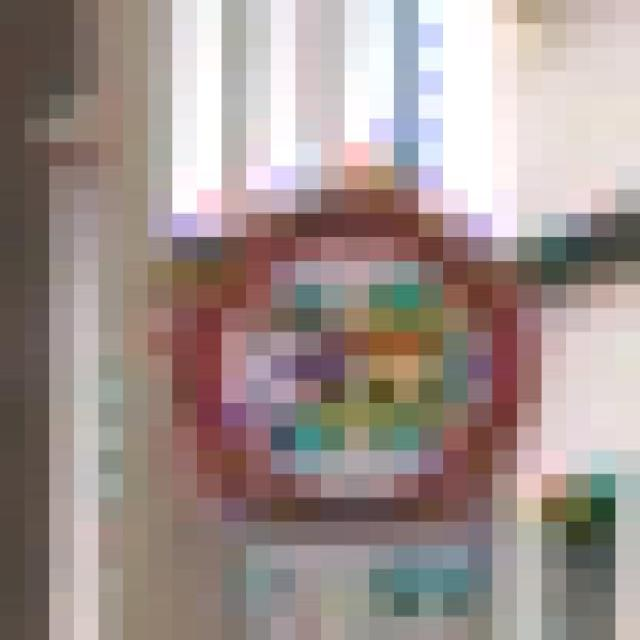Speed Limit 30 KMPh: (123, 95, 517, 593)
